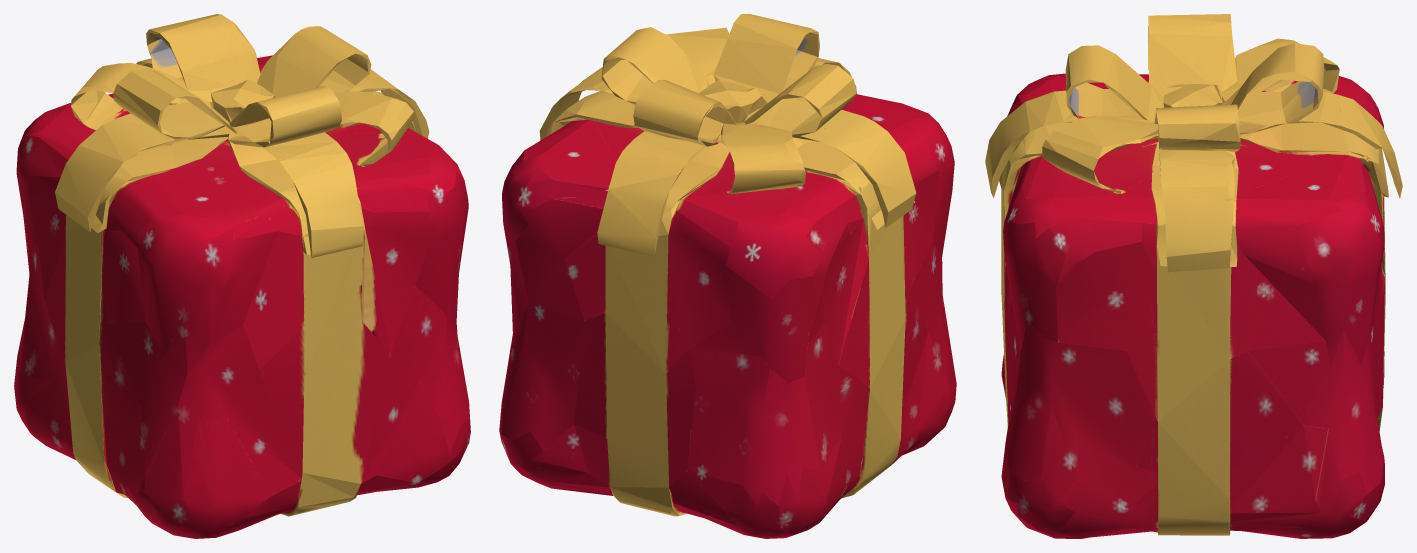
3 views of the same model, side by side, from view 1: azimuth 30°, elevation 25°; view 2: azimuth 150°, elevation 25°; view 3: azimuth 270°, elevation 25° (orthographic). The views are drawn at different scales.
Visible parts, largest first — view 1: output_unwrapped; view 2: output_unwrapped; view 3: output_unwrapped.
Boxes of the visible parts, x1=… form: output_unwrapped: x1=14, y1=14, x2=470, y2=538; output_unwrapped: x1=499, y1=14, x2=956, y2=538; output_unwrapped: x1=985, y1=14, x2=1402, y2=538.
Size of the model in its own units: 1.7 by 1.88 by 1.7.
Materials: 1 (1 with a texture image).
